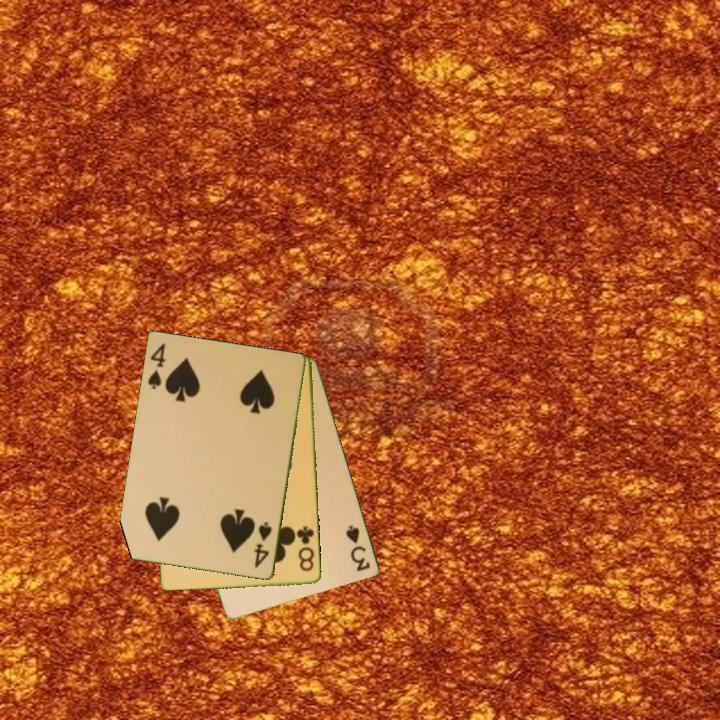3s: (342, 521, 374, 575)
4s: (144, 340, 169, 392), (251, 519, 275, 571)
8c: (294, 523, 317, 575)
